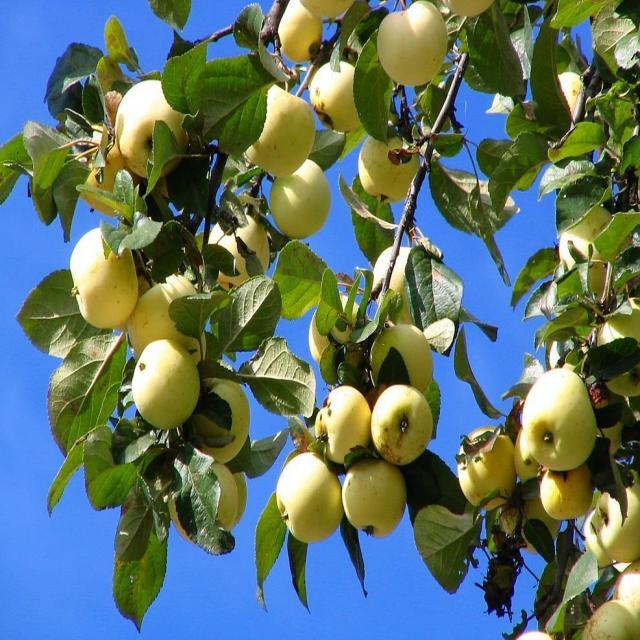Green Apple: (116, 76, 189, 175), (532, 376, 603, 476), (129, 274, 214, 355), (72, 229, 139, 326), (284, 451, 348, 548), (250, 81, 318, 170), (175, 452, 238, 545), (188, 370, 254, 458), (136, 338, 201, 427), (206, 208, 274, 293), (370, 385, 439, 467), (381, 4, 451, 80), (349, 461, 407, 544), (72, 123, 132, 203), (212, 209, 275, 285), (275, 150, 334, 231), (460, 424, 517, 507), (314, 289, 371, 370), (372, 320, 434, 393), (562, 207, 619, 285), (319, 381, 374, 459), (362, 129, 423, 198), (372, 239, 428, 310), (506, 481, 558, 557), (312, 59, 366, 130), (601, 300, 640, 396), (594, 486, 640, 562), (540, 454, 592, 521), (277, 4, 328, 59), (550, 63, 592, 126), (511, 425, 548, 482), (617, 557, 640, 640), (590, 603, 640, 640), (440, 1, 501, 18), (510, 627, 562, 640), (291, 1, 361, 10)
